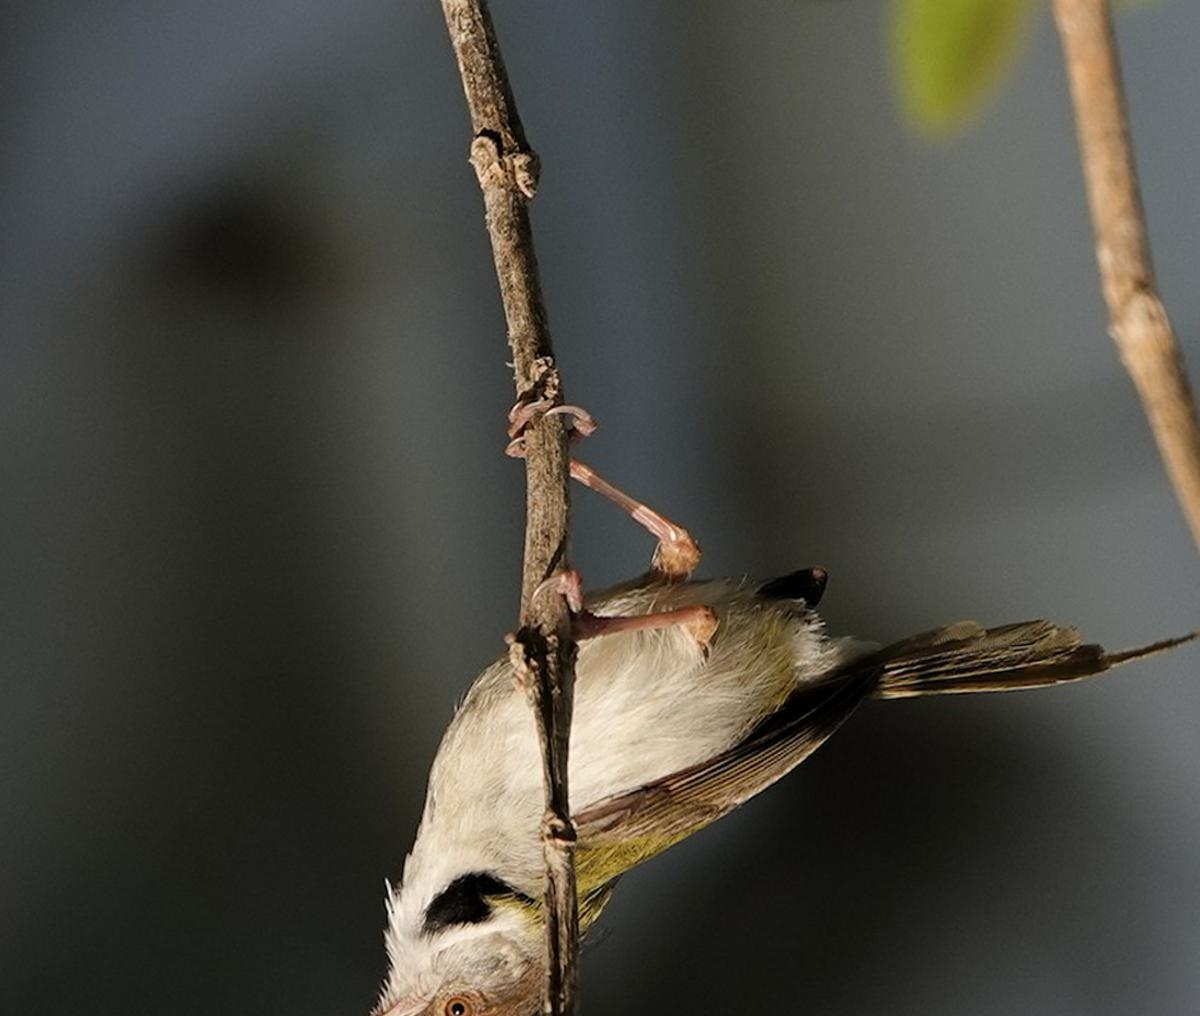tailorbird: (345, 392, 1090, 1016)
